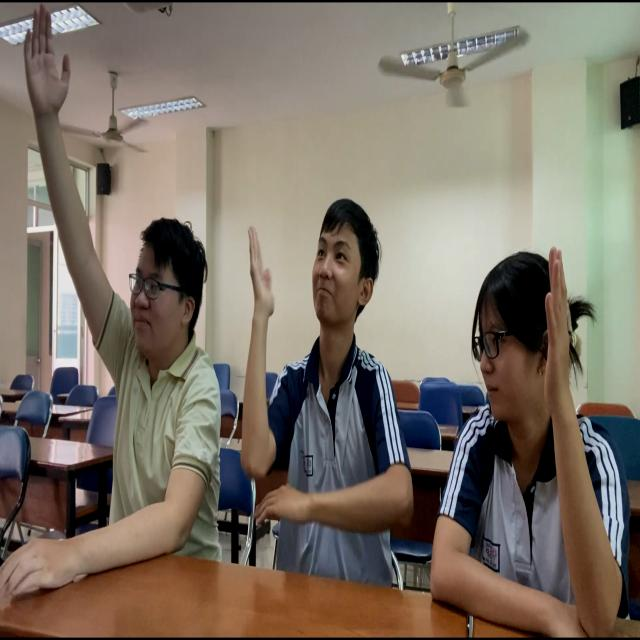raise_hand: (1, 7, 230, 640), (420, 189, 640, 624)
